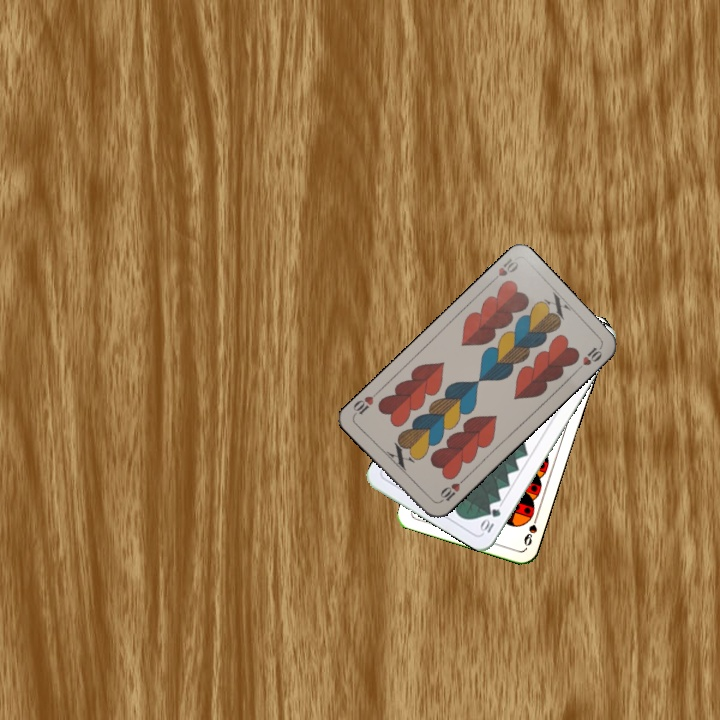G10: (477, 505, 503, 536)
H10: (486, 254, 521, 286), (435, 474, 468, 506)
S9: (520, 510, 541, 549)
